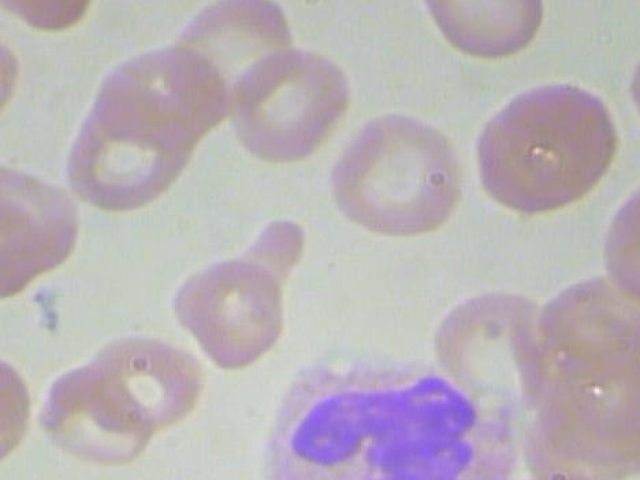RBC: (164, 207, 325, 371), (466, 78, 620, 220), (328, 102, 471, 247), (59, 91, 193, 212), (220, 42, 355, 162), (35, 356, 155, 470), (417, 0, 548, 65), (0, 180, 68, 301), (597, 178, 640, 308), (0, 346, 39, 470), (0, 11, 28, 148)
WBC: (256, 346, 527, 480)
